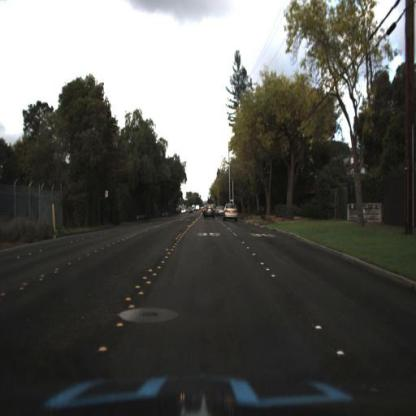car: (222, 201, 242, 224), (202, 199, 218, 222)
